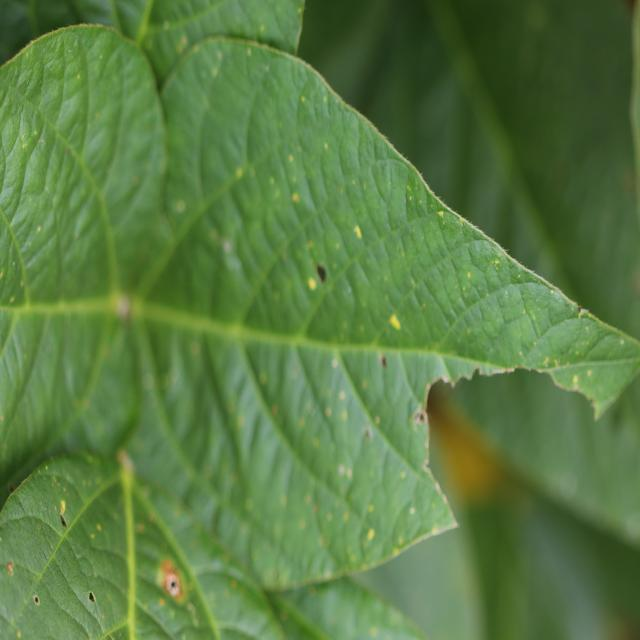Soybean: (0, 0, 640, 640)
downey_mildew: (158, 332, 354, 589), (0, 469, 143, 636), (8, 117, 99, 290), (266, 173, 357, 332), (296, 363, 382, 529), (244, 214, 341, 355), (420, 208, 504, 326), (241, 143, 309, 236), (46, 471, 76, 512), (389, 314, 401, 330), (353, 225, 362, 239), (176, 200, 185, 213), (308, 277, 317, 290), (237, 415, 245, 428), (366, 528, 374, 541), (337, 464, 345, 476), (235, 167, 243, 178), (292, 192, 299, 203), (346, 467, 352, 478), (491, 259, 500, 266), (572, 374, 578, 384), (437, 210, 444, 218), (543, 357, 549, 366), (400, 470, 406, 479), (368, 504, 374, 513), (159, 598, 165, 607), (96, 524, 102, 532), (288, 154, 294, 162), (578, 308, 584, 316), (407, 184, 412, 193), (247, 47, 252, 56), (459, 217, 464, 225), (52, 476, 57, 484), (10, 296, 15, 303), (37, 225, 42, 232), (324, 142, 328, 150), (301, 95, 305, 103), (467, 271, 471, 279), (0, 271, 4, 279), (550, 289, 555, 294), (22, 142, 26, 148), (33, 130, 37, 136), (467, 328, 471, 334), (91, 533, 95, 539), (63, 487, 67, 493), (77, 74, 80, 80)
